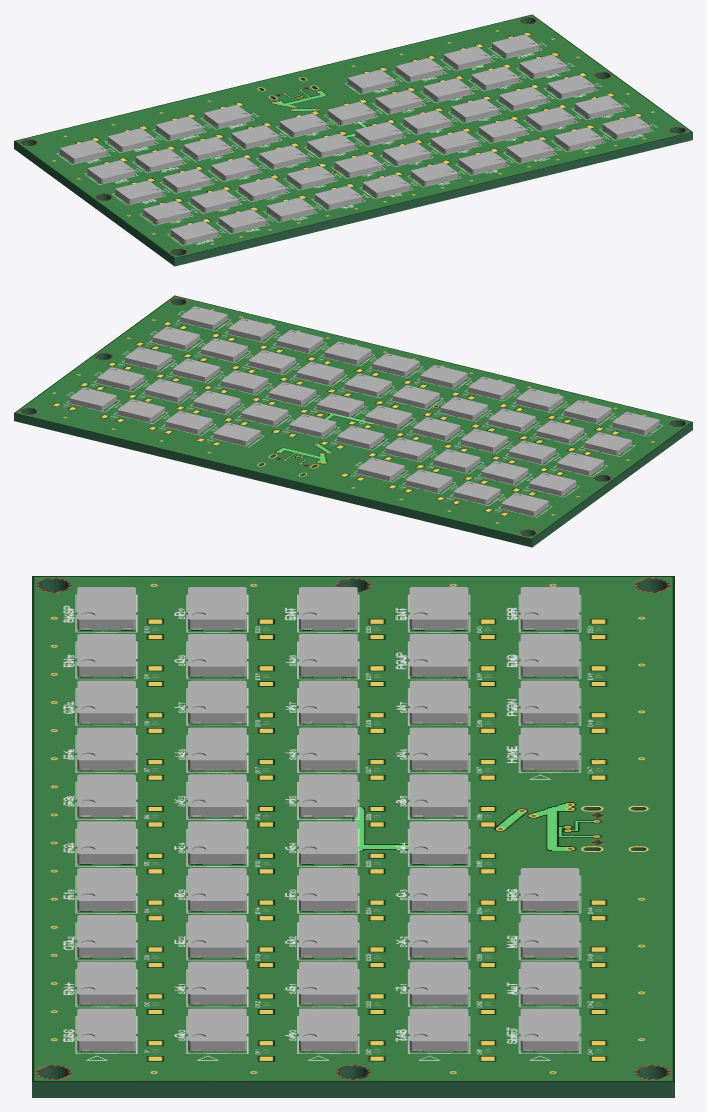
File: board.glb
The picture shows the model from 3 angles, top to bottom: view 1: azimuth 30°, elevation 25°; view 2: azimuth 150°, elevation 25°; view 3: azimuth 270°, elevation 25°; orthographic projection. The views are drawn at different scales.
Parts seen in each view (by area): view 1: Box0, SW34, SW46, SW12, SW24, SW29, SW33, SW37, SW45, SW56, SW11, SW13 (+37 smaller); view 2: Box0, SW14, SW29, SW40, SW47, SW11, SW22, SW28, SW30, SW32, SW46, SW12 (+37 smaller); view 3: Box0, SW40, SW46, SW50, SW56, SW47, SW41, SW57, SW45, SW51, SW11, SW15 (+37 smaller).
Part boxes in pixels (<box>): Box0: <box>14,14,692,266</box>; SW34: <box>355,122,402,145</box>; SW46: <box>231,125,278,148</box>; SW12: <box>506,139,553,162</box>; SW24: <box>383,142,430,165</box>; SW29: <box>143,201,190,224</box>; SW33: <box>403,110,450,133</box>; SW37: <box>211,157,258,180</box>; SW45: <box>279,113,326,136</box>; SW56: <box>204,105,251,128</box>; SW11: <box>554,127,601,150</box>; SW13: <box>458,151,505,174</box>; Box0: <box>14,295,692,547</box>; SW14: <box>372,353,419,376</box>; SW29: <box>584,432,631,455</box>; SW40: <box>97,367,144,390</box>; SW47: <box>433,449,480,472</box>; SW11: <box>228,318,275,341</box>; SW22: <box>248,350,295,373</box>; SW28: <box>536,420,583,443</box>; SW30: <box>125,347,172,370</box>; SW32: <box>221,370,268,393</box>; SW46: <box>385,437,432,460</box>; SW12: <box>276,330,323,353</box>; Box0: <box>32,576,674,1097</box>; SW40: <box>409,1008,468,1051</box>; SW46: <box>409,727,468,770</box>; SW50: <box>520,1008,579,1051</box>; SW56: <box>520,727,579,770</box>; SW47: <box>409,680,468,723</box>; SW41: <box>409,961,468,1004</box>; SW57: <box>520,680,579,723</box>; SW45: <box>409,774,468,817</box>; SW51: <box>520,961,579,1004</box>; SW11: <box>77,961,135,1004</box>; SW15: <box>77,774,135,817</box>.
Bounding box in the file's own units: 108 × 4.35 × 58.
13 materials, 2 textured.
